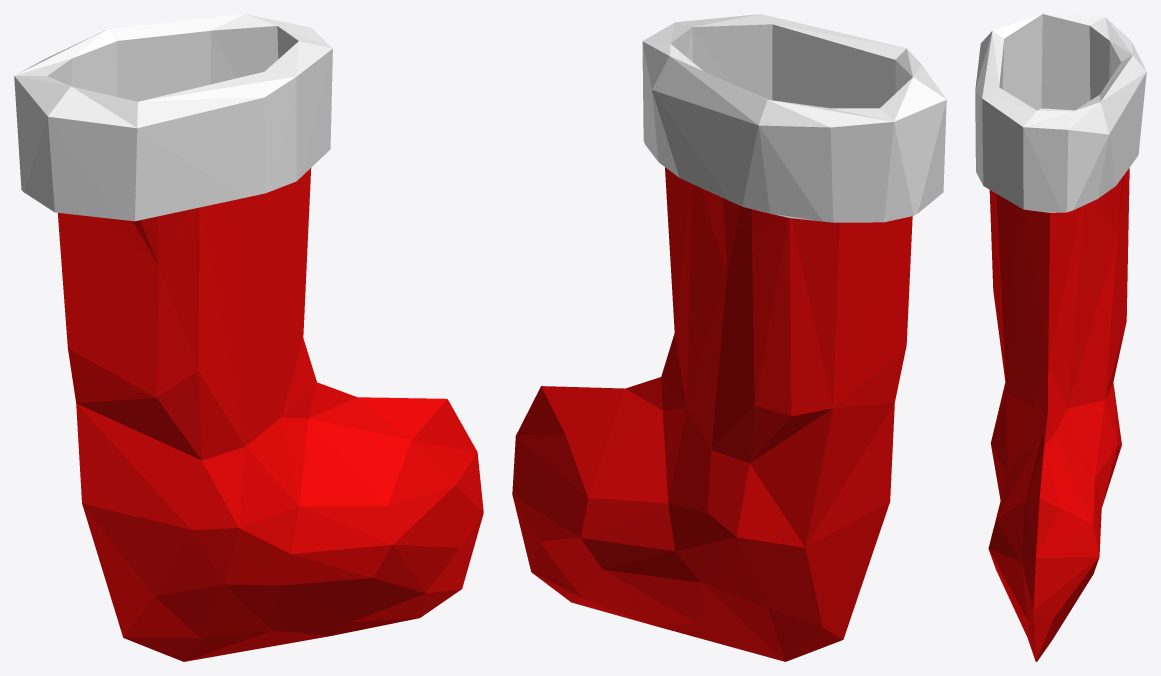
Rendered from Prop_Christmas_Ornament_Stocking_01.FBX.
3 renders of one model, left to right at view 1: azimuth 30°, elevation 25°; view 2: azimuth 150°, elevation 25°; view 3: azimuth 270°, elevation 25°, orthographic. The views are drawn at different scales.
Visible parts, largest first — view 1: Prop_Christmas_Ornament_Stocking_01; view 2: Prop_Christmas_Ornament_Stocking_01; view 3: Prop_Christmas_Ornament_Stocking_01.
Boxes of the visible parts, x1,y1,x2,y2 form: Prop_Christmas_Ornament_Stocking_01: (14, 14, 483, 661); Prop_Christmas_Ornament_Stocking_01: (512, 14, 946, 661); Prop_Christmas_Ornament_Stocking_01: (975, 14, 1146, 661).
Bounding box in the file's own units: 548 × 738 × 226.
